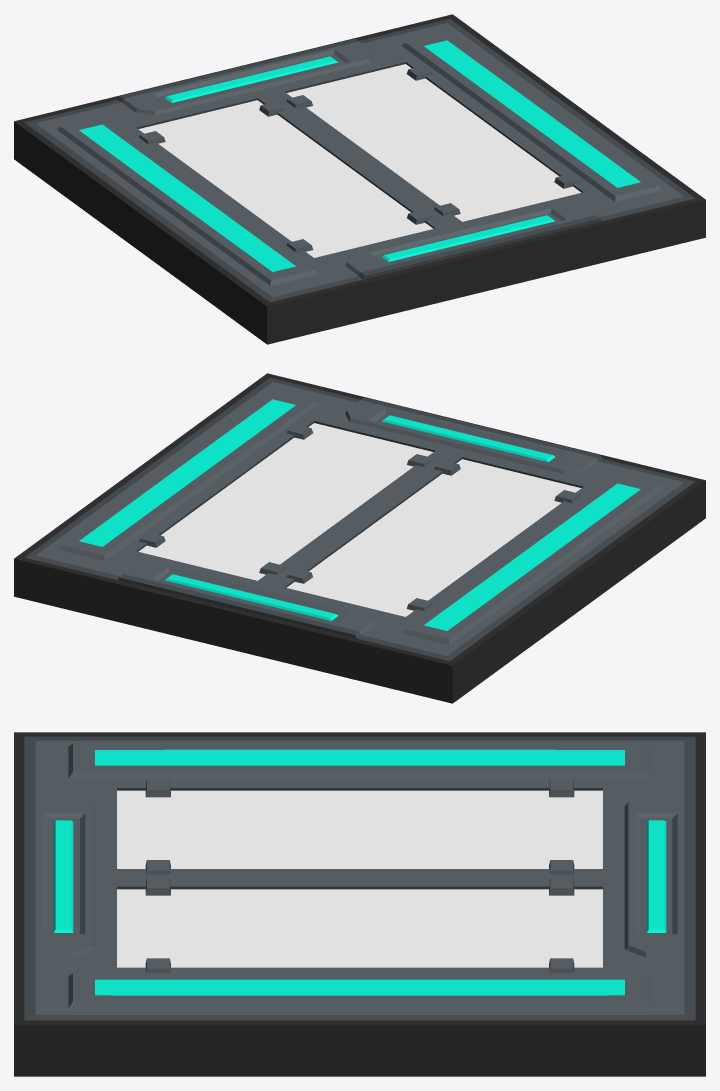
The model's file is SM_Bld_Floor_Small_03.fbx.
3 views of the same model, one above another, from view 1: azimuth 30°, elevation 25°; view 2: azimuth 150°, elevation 25°; view 3: azimuth 270°, elevation 25° (orthographic). The views are drawn at different scales.
Parts seen in each view (by area): view 1: SM_Bld_Floor_Small_03; view 2: SM_Bld_Floor_Small_03; view 3: SM_Bld_Floor_Small_03.
Boxes of the visible parts, <box> form: SM_Bld_Floor_Small_03: <box>14,14,705,344</box>; SM_Bld_Floor_Small_03: <box>14,373,705,703</box>; SM_Bld_Floor_Small_03: <box>14,732,705,1076</box>.
Size of the model in its own units: 250 by 23.02 by 250.
Materials: 1 (1 with a texture image).
